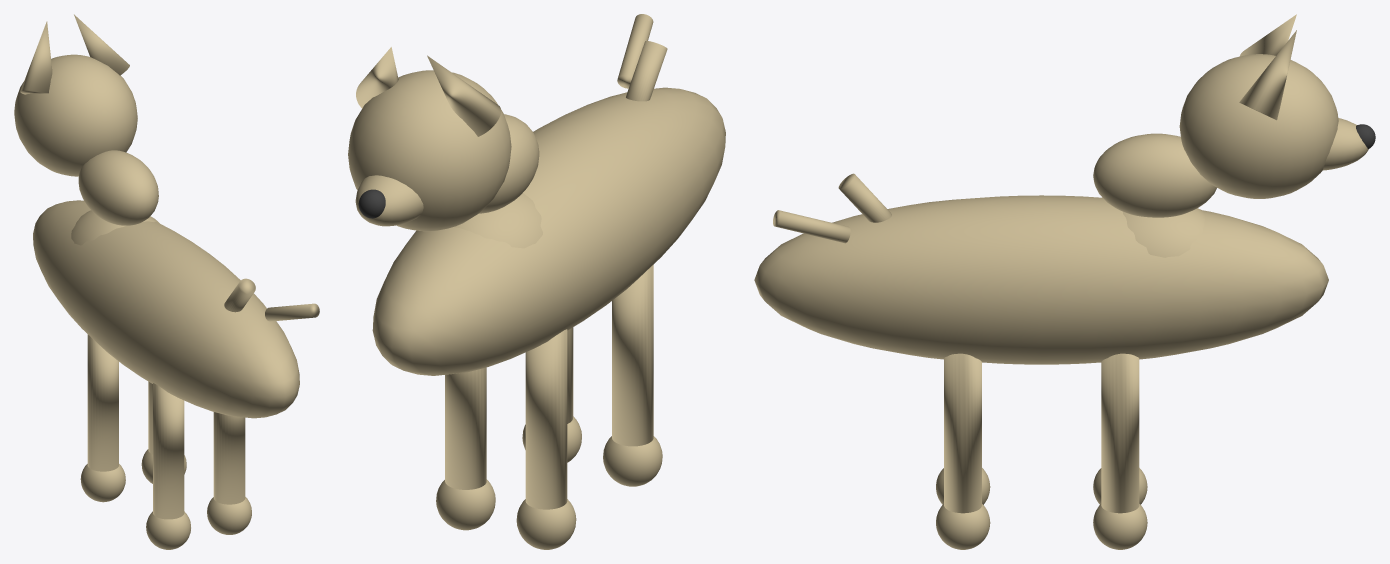
The model's file is canine-sitting.glb.
3 views of the same model, side by side, from view 1: azimuth 30°, elevation 25°; view 2: azimuth 150°, elevation 25°; view 3: azimuth 270°, elevation 25° (orthographic). The views are drawn at different scales.
Visible parts, largest first — view 1: Body; view 2: Body; view 3: Body.
Boxes of the visible parts, x1,y1,x2,y2 form: Body: (14,14,319,549); Body: (348,14,725,549); Body: (754,14,1375,549).
Size of the model in its own units: 0.28 by 0.926 by 1.03.
